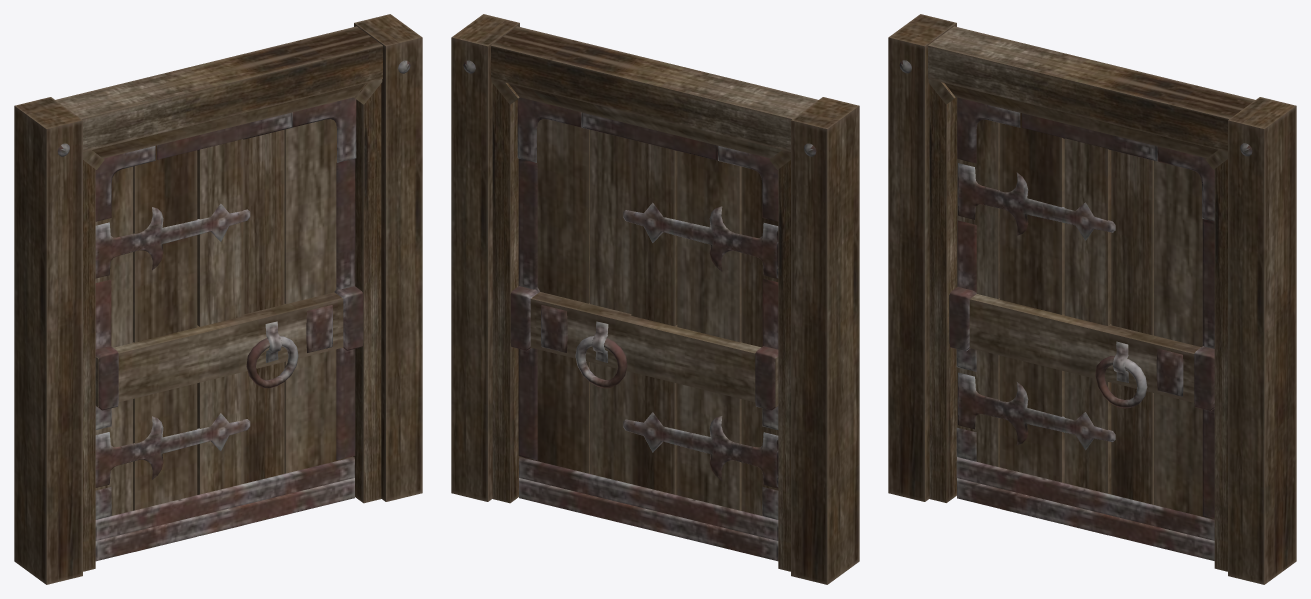
The model's file is door_wooden.glb.
3 views of the same model, side by side, from view 1: azimuth 30°, elevation 25°; view 2: azimuth 150°, elevation 25°; view 3: azimuth 330°, elevation 25° (orthographic).
Visible parts, largest first — view 1: door_roughwood_small_02; view 2: door_roughwood_small_02; view 3: door_roughwood_small_02.
Boxes of the visible parts, <box> form: door_roughwood_small_02: <box>14,14,422,584</box>; door_roughwood_small_02: <box>451,14,859,584</box>; door_roughwood_small_02: <box>888,14,1296,584</box>.
Bounding box in the file's own units: 2.22 × 2.58 × 0.3802.
1 material, 1 textured.
